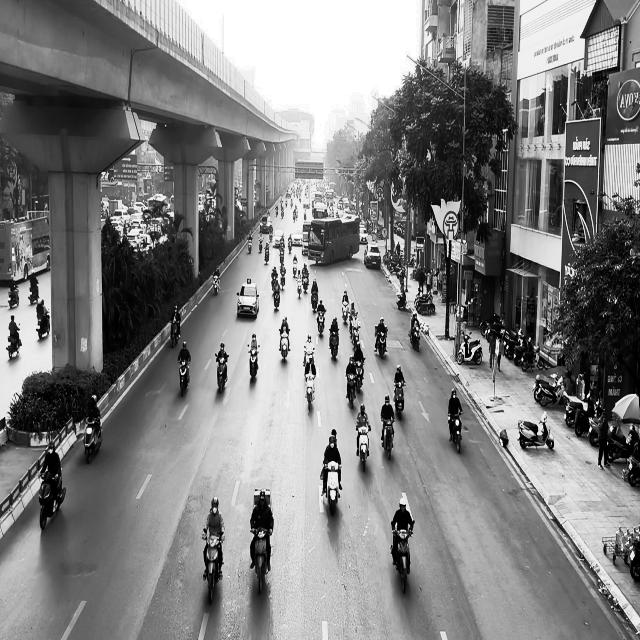bus: (0, 210, 51, 282), (308, 213, 360, 265)
car: (237, 278, 260, 318), (364, 242, 381, 269), (272, 228, 285, 248)
motorbike: (391, 519, 415, 594), (38, 471, 66, 530), (250, 526, 274, 594), (202, 533, 224, 604), (518, 410, 554, 450), (325, 461, 342, 515), (457, 330, 483, 365), (84, 416, 102, 464), (356, 425, 371, 472), (448, 411, 463, 453), (381, 415, 395, 460), (6, 323, 22, 358), (178, 356, 191, 397), (216, 352, 229, 393), (304, 369, 316, 410), (394, 381, 406, 420), (248, 343, 260, 382), (346, 371, 358, 408), (375, 325, 388, 358), (354, 356, 366, 391), (279, 328, 291, 362), (36, 311, 50, 340), (409, 324, 422, 352), (329, 328, 340, 360), (316, 307, 327, 335), (8, 284, 20, 308), (170, 319, 180, 347), (351, 323, 360, 348), (273, 282, 281, 310), (213, 269, 221, 295), (311, 291, 319, 312), (297, 276, 303, 298), (264, 243, 270, 264), (248, 236, 253, 253)
